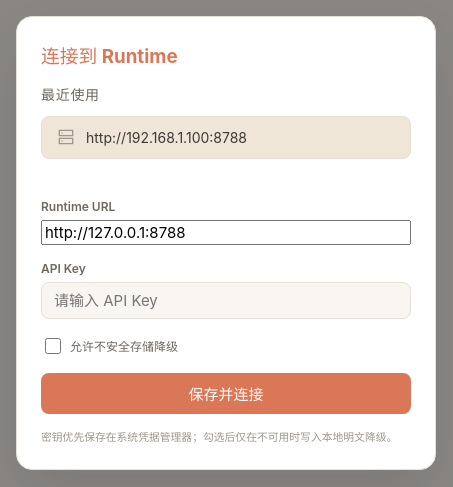
Scenario: ConnectionSetup › selects config from recent list
The image size is (453, 487).
Click the text "http://192.168.1.100:8788".
click(166, 137)  # box x1=86 y1=129 x2=247 y2=146
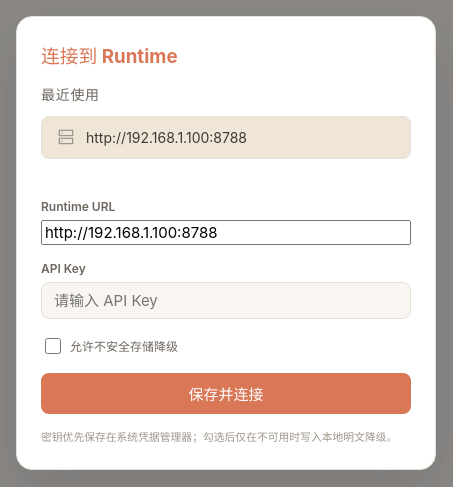
Expected: the field labelled "Runtime URL" holds "http://192.168.1.100:8788", x1=41 y1=220 x2=411 y2=245
